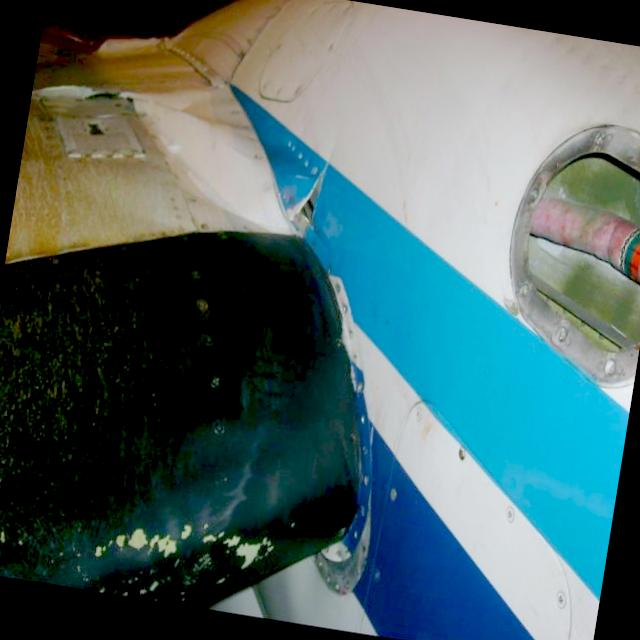crack: (510, 127, 640, 398), (286, 166, 326, 234), (289, 178, 320, 235)
dent: (94, 235, 363, 606), (124, 68, 294, 235)
